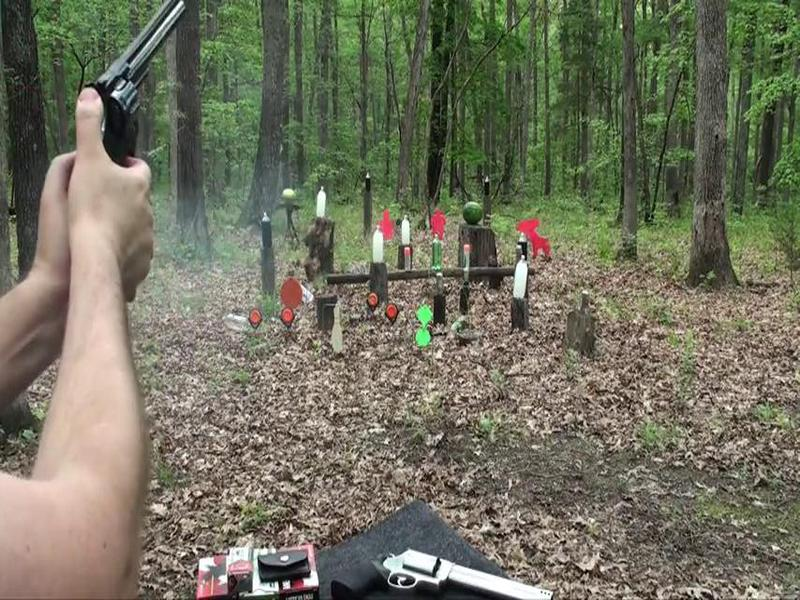Revolver: (72, 1, 191, 221)
